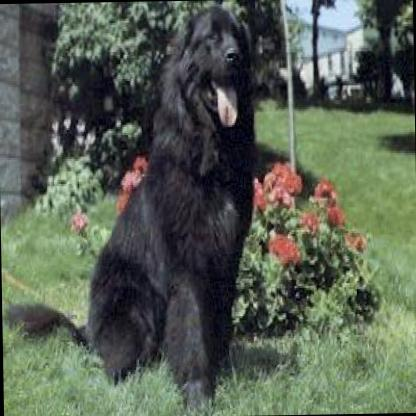Newfoundland: (0, 1, 258, 415)
